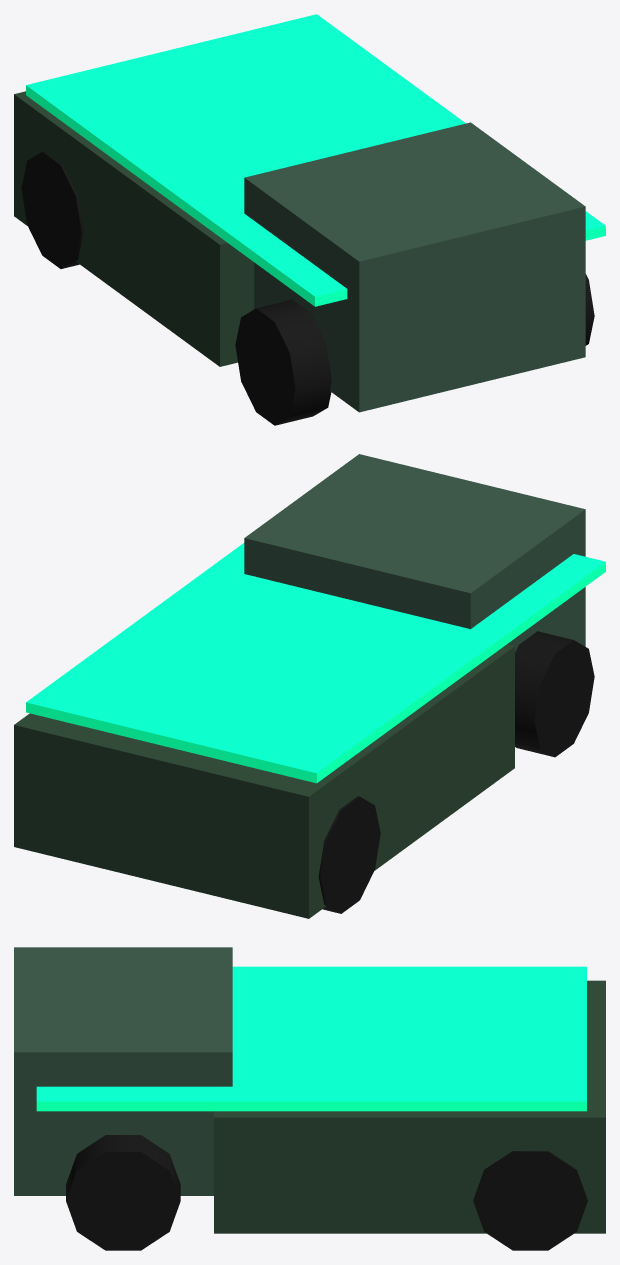
The model's file is tc_haul_l1.glb.
3 views of the same model, one above another, from view 1: azimuth 30°, elevation 25°; view 2: azimuth 150°, elevation 25°; view 3: azimuth 270°, elevation 25° (orthographic). The views are drawn at different scales.
Parts seen in each view (by area): view 1: TC Hauler_L1; view 2: TC Hauler_L1; view 3: TC Hauler_L1.
Part boxes in pixels (x1=…): TC Hauler_L1: x1=14, y1=14, x2=605, y2=425; TC Hauler_L1: x1=14, y1=454, x2=605, y2=918; TC Hauler_L1: x1=14, y1=947, x2=605, y2=1250.
Size of the model in its own units: 2.18 by 1.33 by 3.92.
